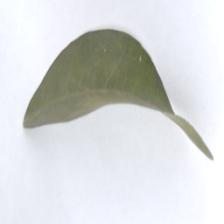healthy: (22, 24, 218, 161)
